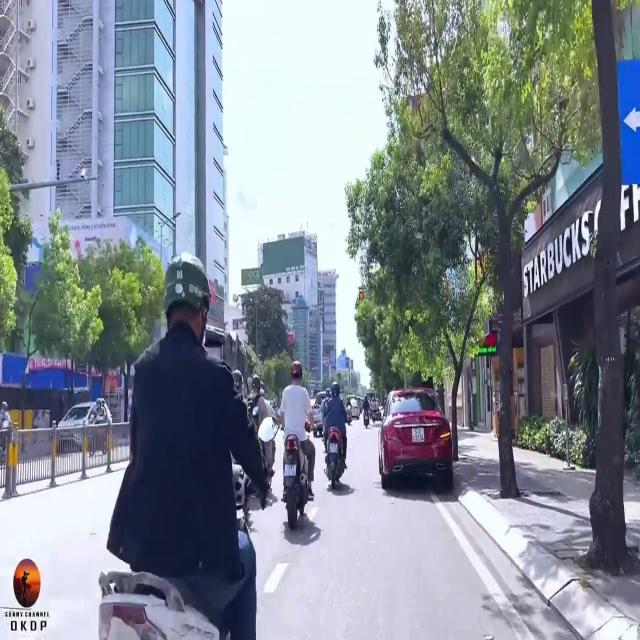bien_trang: (412, 427, 425, 444)
